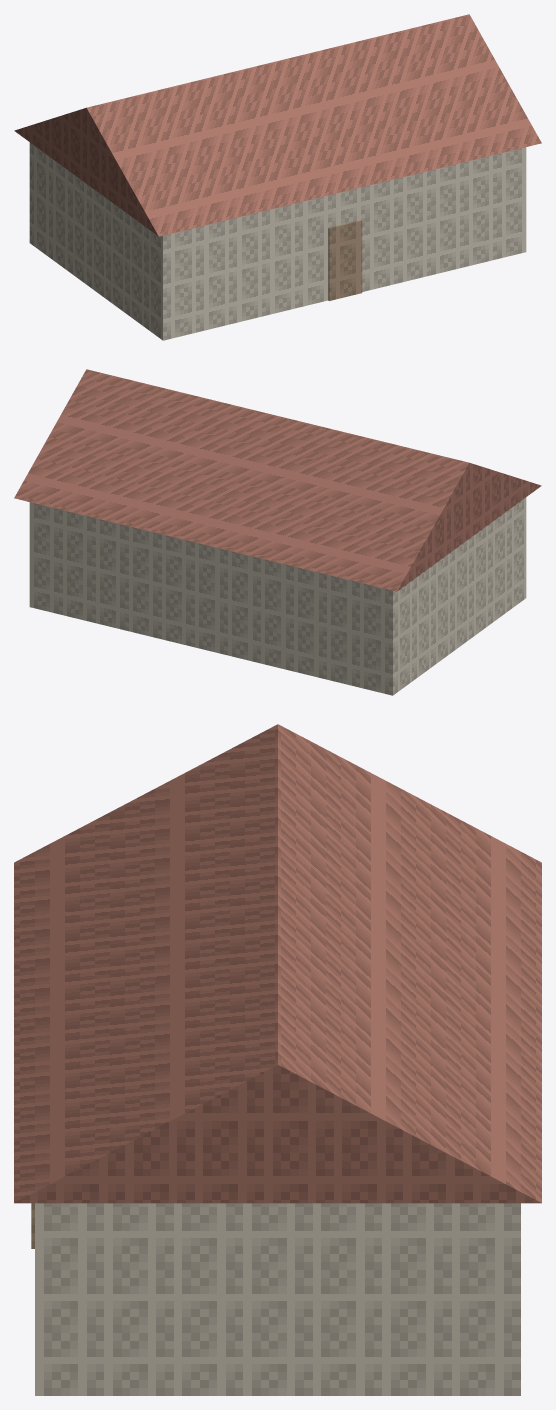
File: house_wide.glb
3 renders of one model, top to bottom at view 1: azimuth 30°, elevation 25°; view 2: azimuth 150°, elevation 25°; view 3: azimuth 270°, elevation 25°, orthographic. The views are drawn at different scales.
Size of the model in its own units: 11.6 by 5.4 by 7.6.
3 materials, 3 textured.
